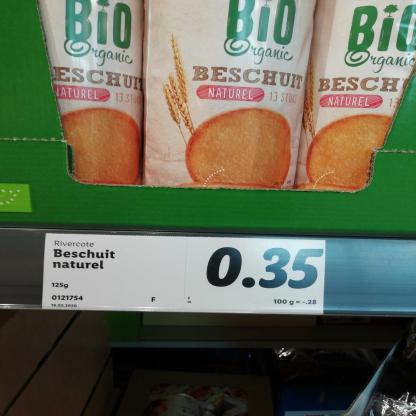prtg: (43, 234, 327, 315)
